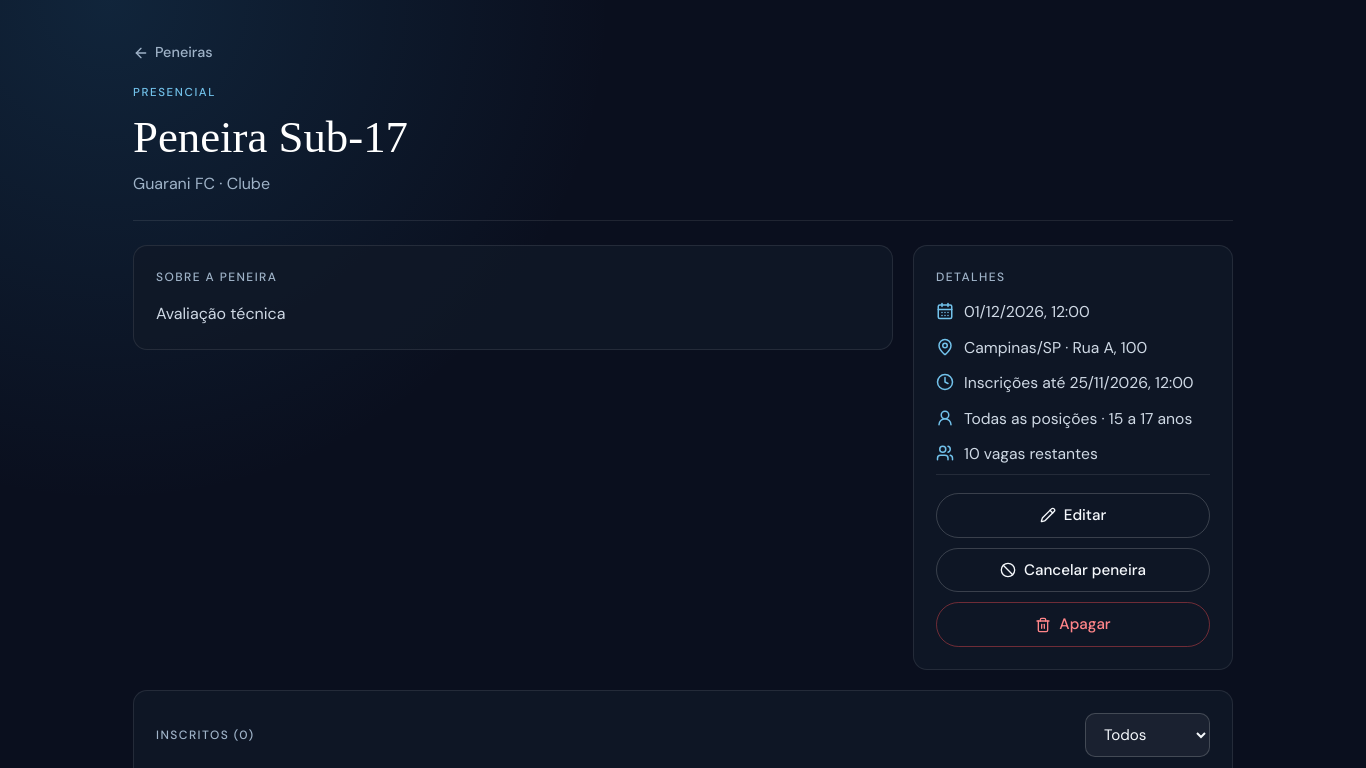
Test: OpportunityDetail — dono › apagar com sucesso navega sem mostrar "não encontrada"
The width and height of the screenshot is (1366, 768).
Click the button "Apagar" at (1073, 625), box [936,602,1210,647]
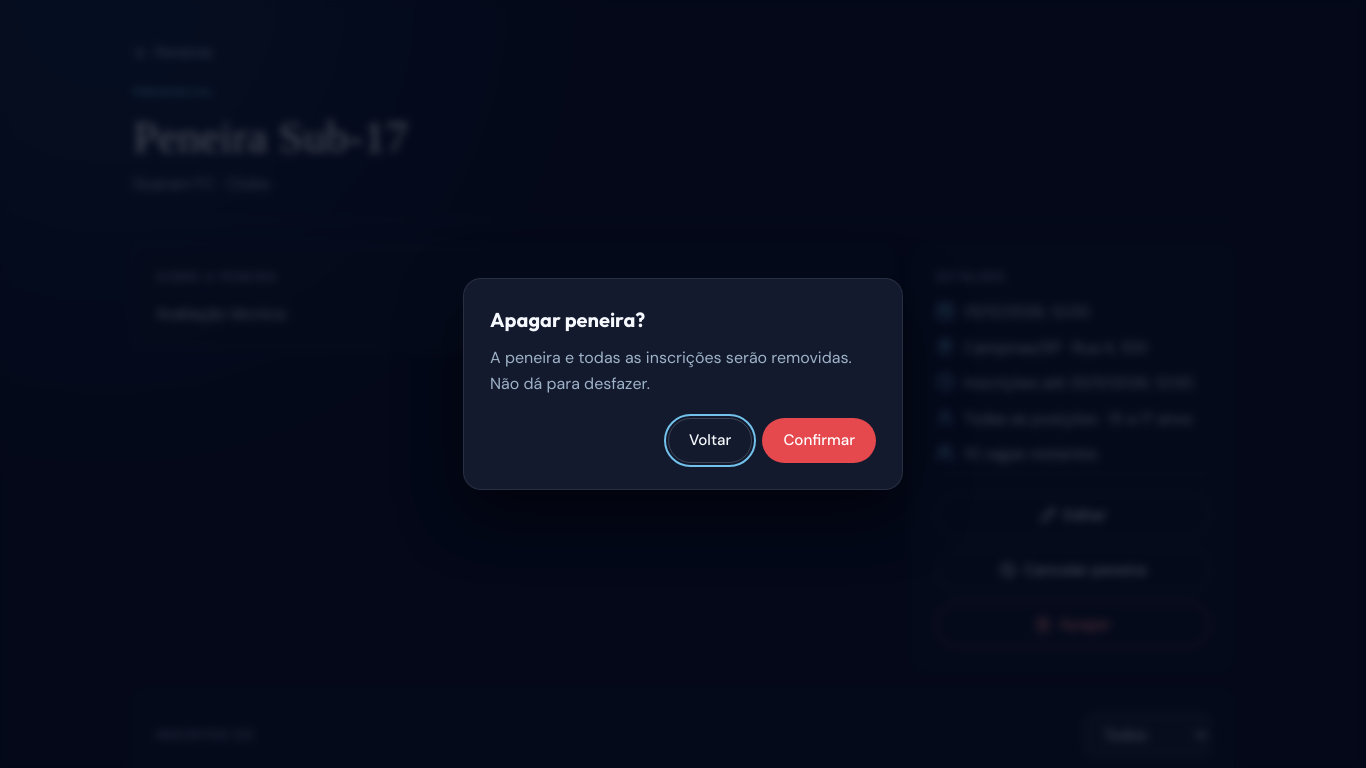
Click the button "Confirmar" at (819, 441), box [762,418,876,463]
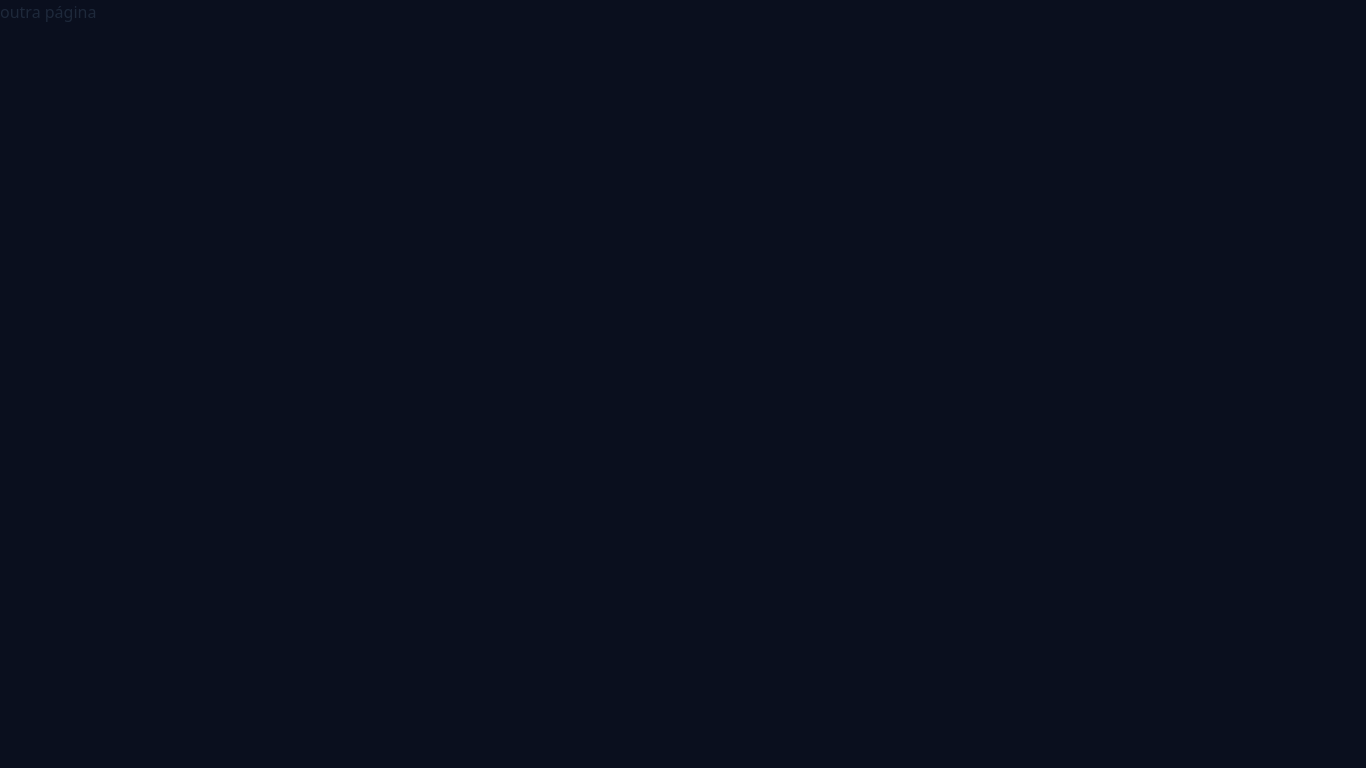
expect the text "outra página" is shown: met, box [0,1,96,23]
